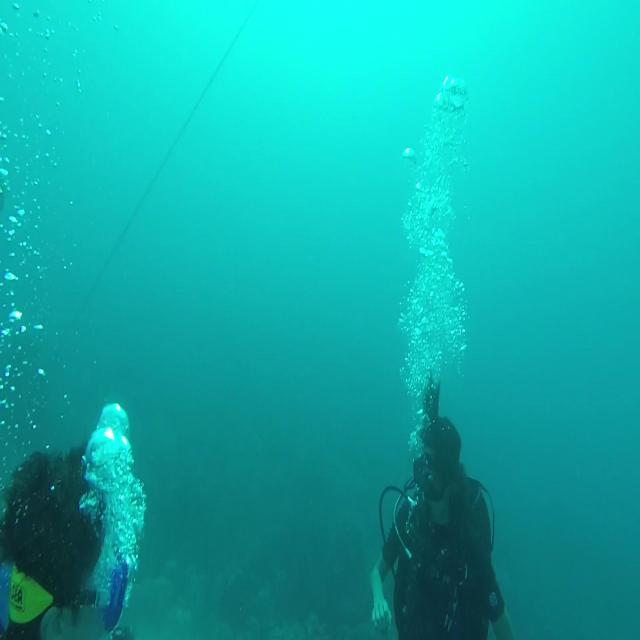human: (370, 375, 513, 638), (1, 445, 131, 638)
